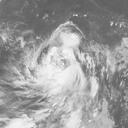cyclone: (40, 31, 82, 87)
